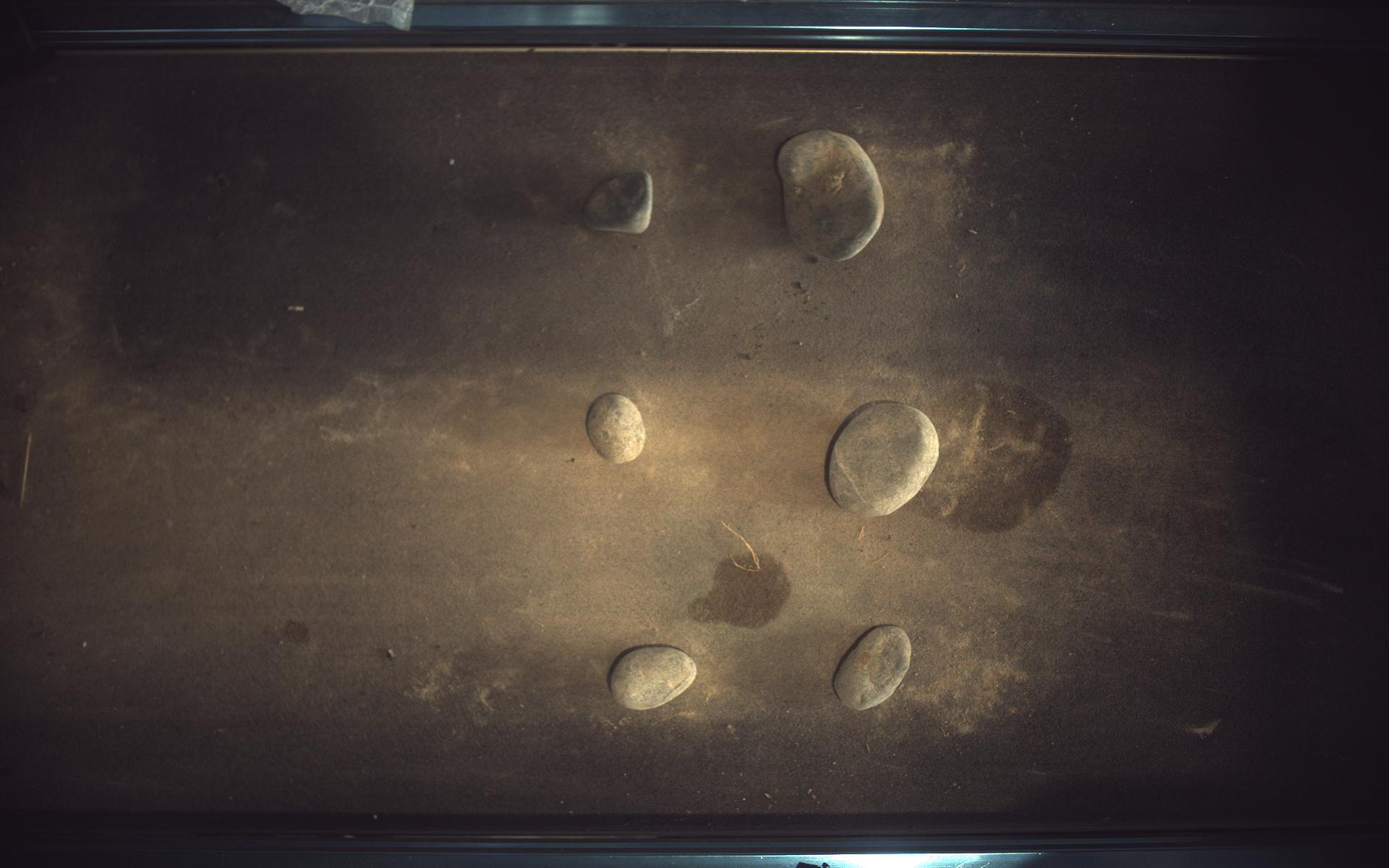stone: (778, 129, 885, 260), (830, 401, 940, 517), (836, 626, 912, 712), (611, 646, 698, 711), (582, 169, 654, 233), (587, 393, 647, 464)
